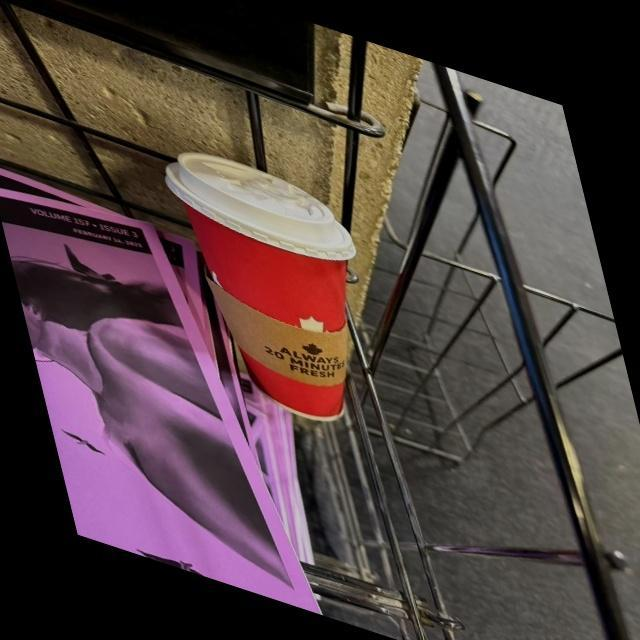timmies: (158, 143, 360, 433)
